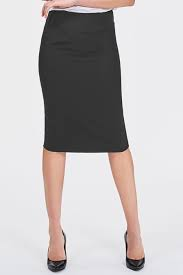F_tailored skirt: (35, 6, 141, 156)
